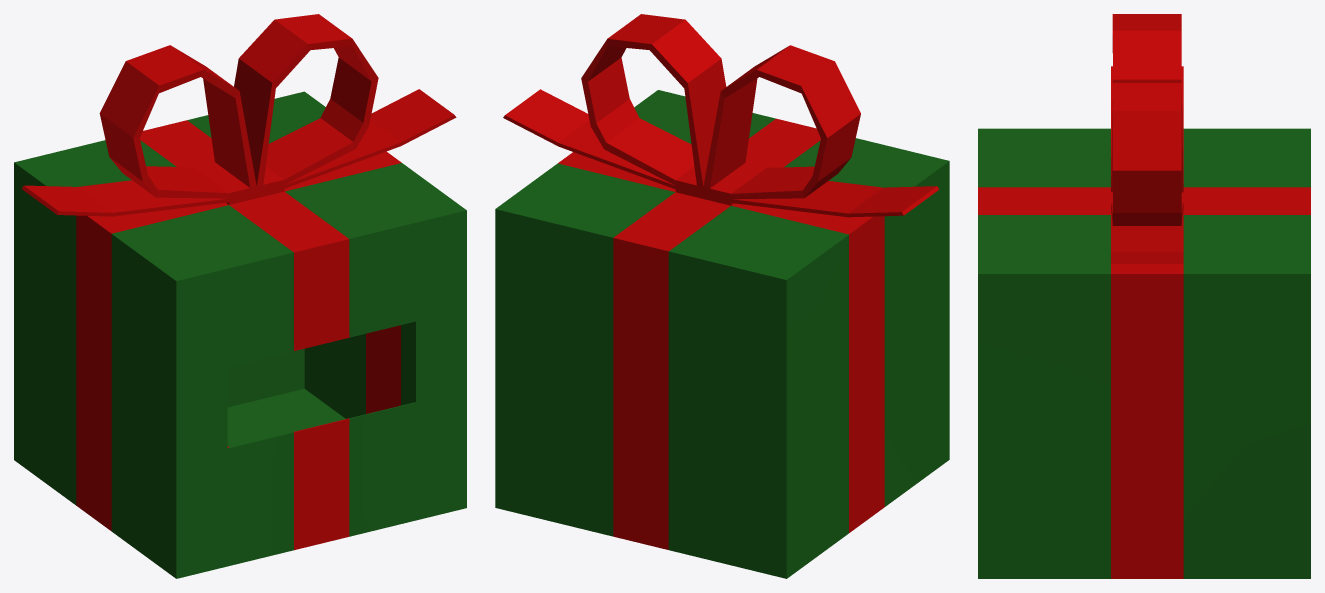
Rendered from gifthat.fbx.
3 views of the same model, side by side, from view 1: azimuth 30°, elevation 25°; view 2: azimuth 150°, elevation 25°; view 3: azimuth 270°, elevation 25° (orthographic). The views are drawn at different scales.
Visible parts, largest first — view 1: gifthat; view 2: gifthat; view 3: gifthat.
Boxes of the visible parts, x1,y1,x2,y2 form: gifthat: (14,14,466,578); gifthat: (495,14,949,578); gifthat: (978,14,1310,578).
Bounding box in the file's own units: 49.81 × 52.26 × 35.07.
